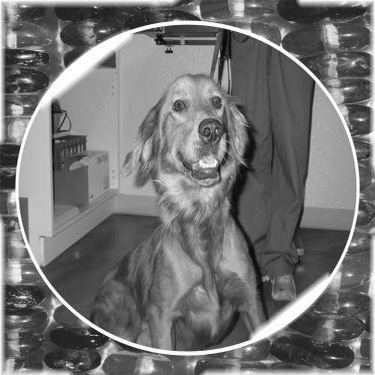dog: (86, 64, 278, 356)
